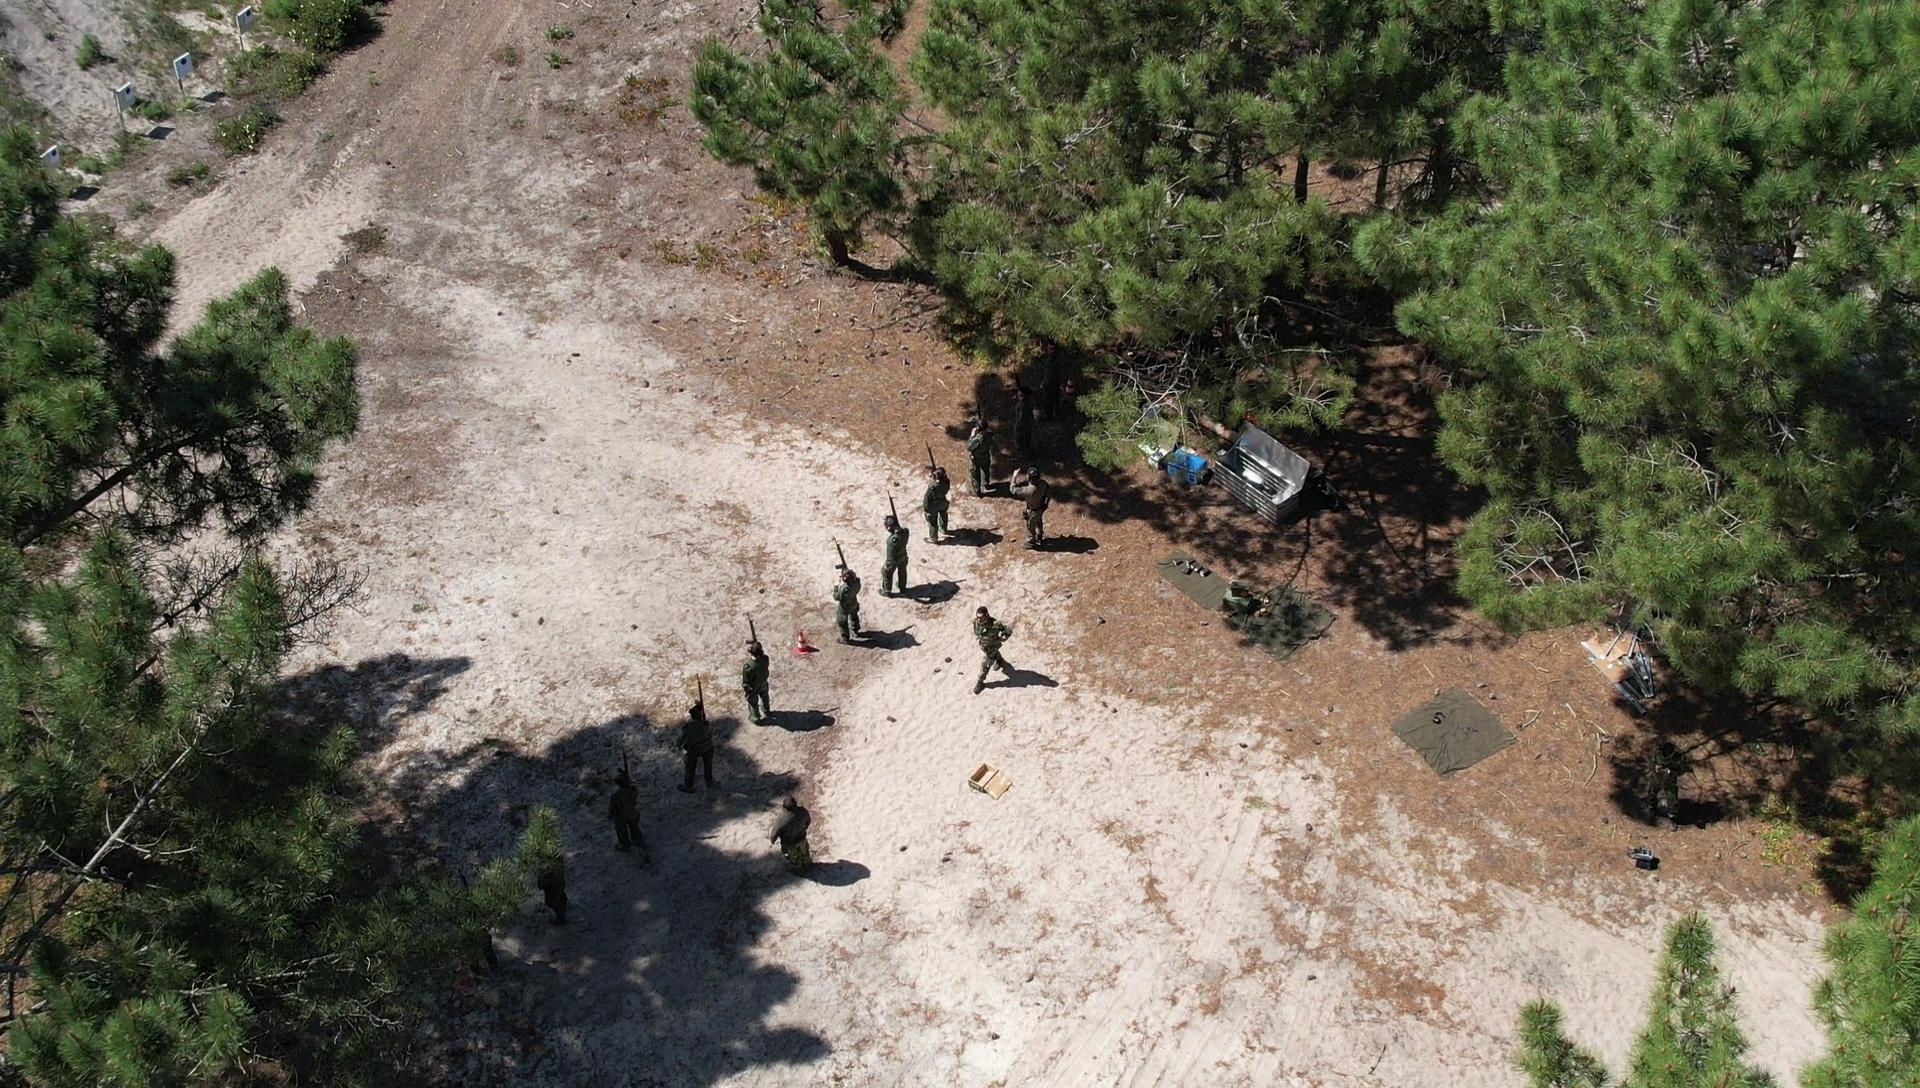Soldier: (670, 670, 731, 797), (731, 611, 789, 737), (597, 750, 655, 870), (1629, 731, 1693, 837), (764, 783, 829, 884), (967, 603, 1021, 692), (1004, 458, 1056, 546), (829, 547, 869, 661), (916, 442, 956, 550), (963, 400, 1004, 499), (1011, 378, 1054, 467), (535, 852, 575, 932), (882, 506, 913, 604)
